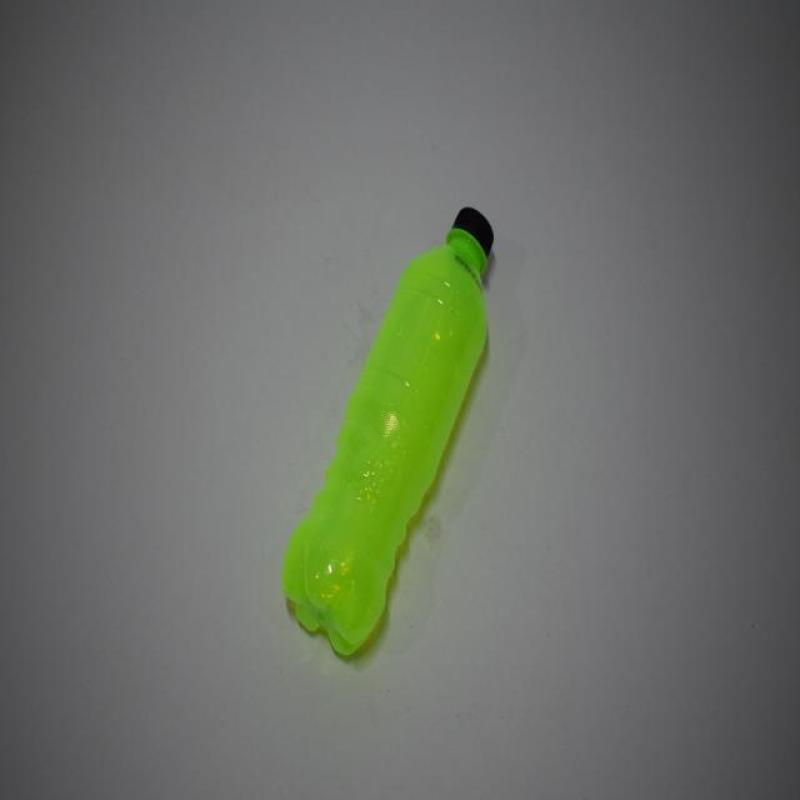botella: (280, 206, 496, 660)
